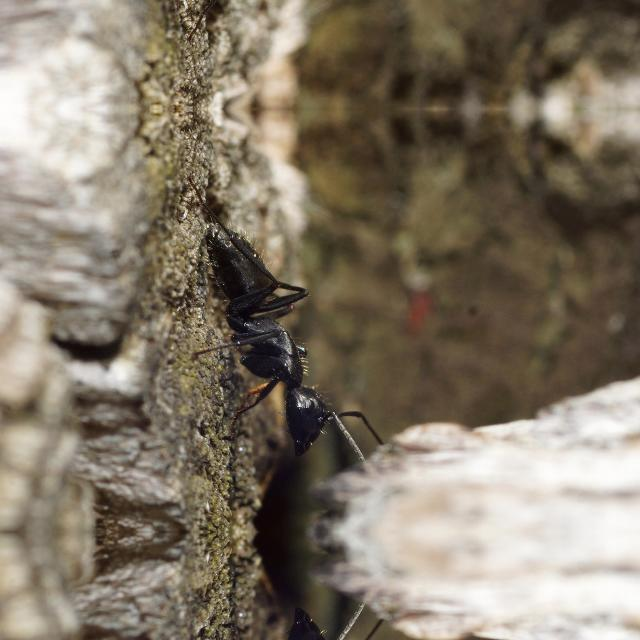Camponotus: (180, 195, 370, 472)
